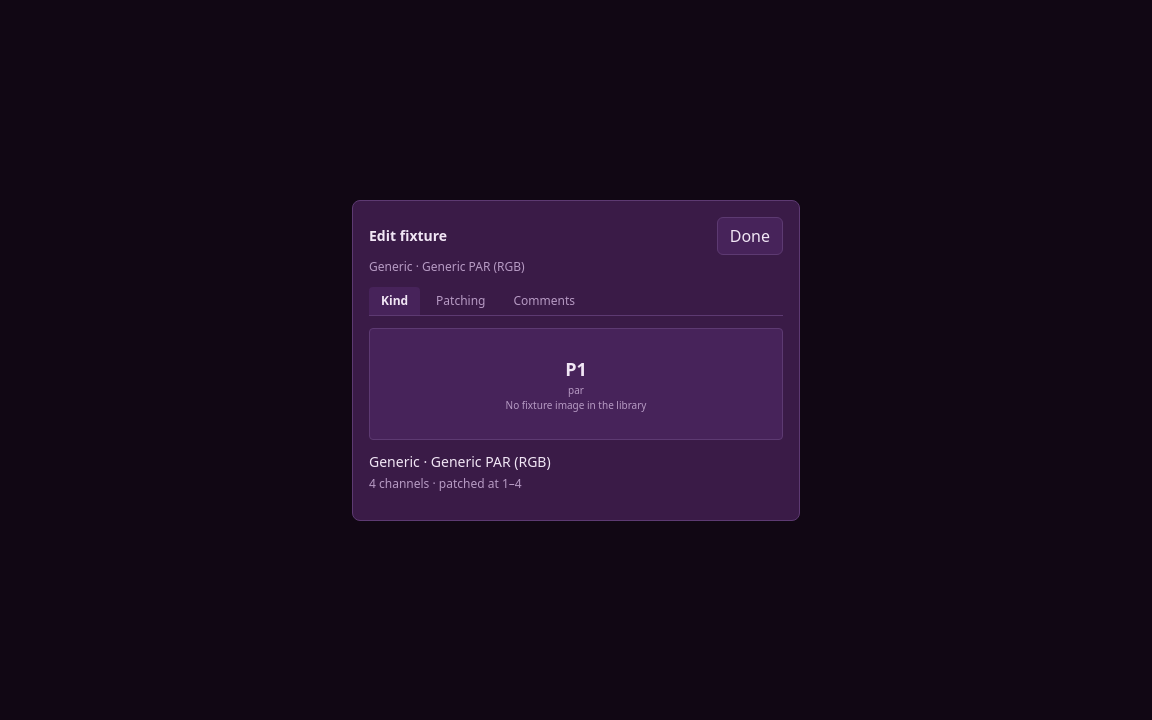
Test: Patch dialog edit mode › asks twice before deleting, then removes the fixture
Later steps or results of the test are not shown.
Click the tab "Comments": click(544, 300) left=502, top=286, right=587, bottom=314
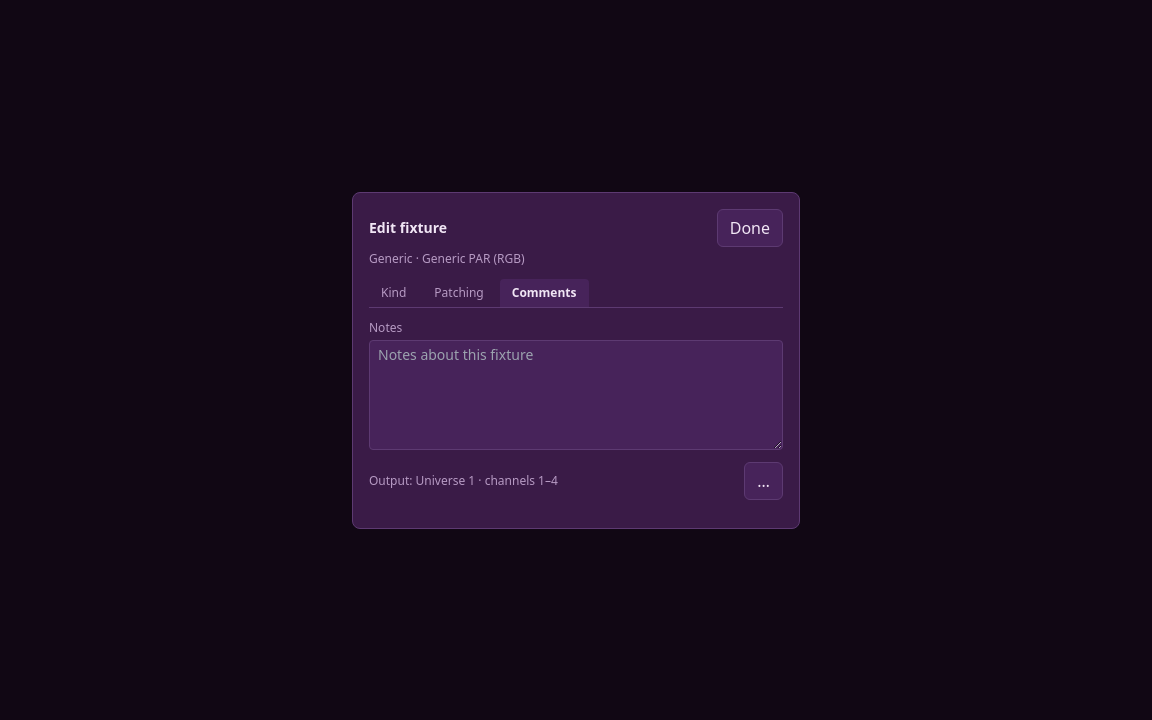
Click the button named "Fixture actions": click(764, 480) left=744, top=462, right=783, bottom=500
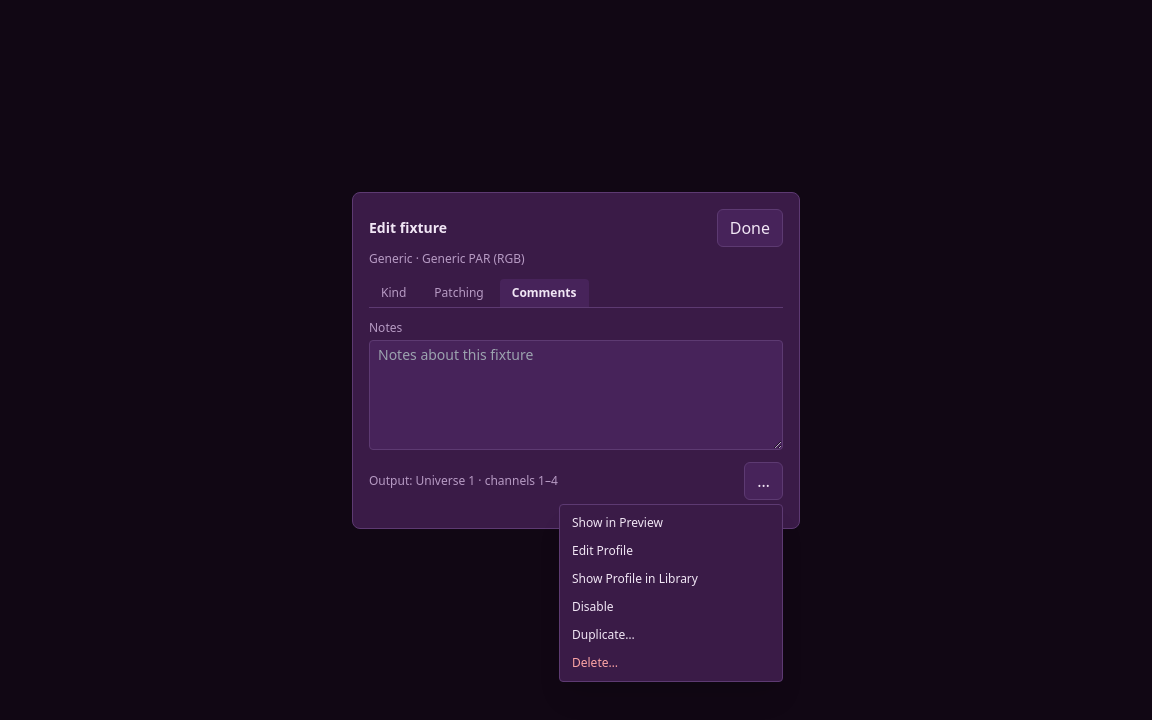
Click the menu item "Delete…": click(671, 662) left=560, top=648, right=782, bottom=676
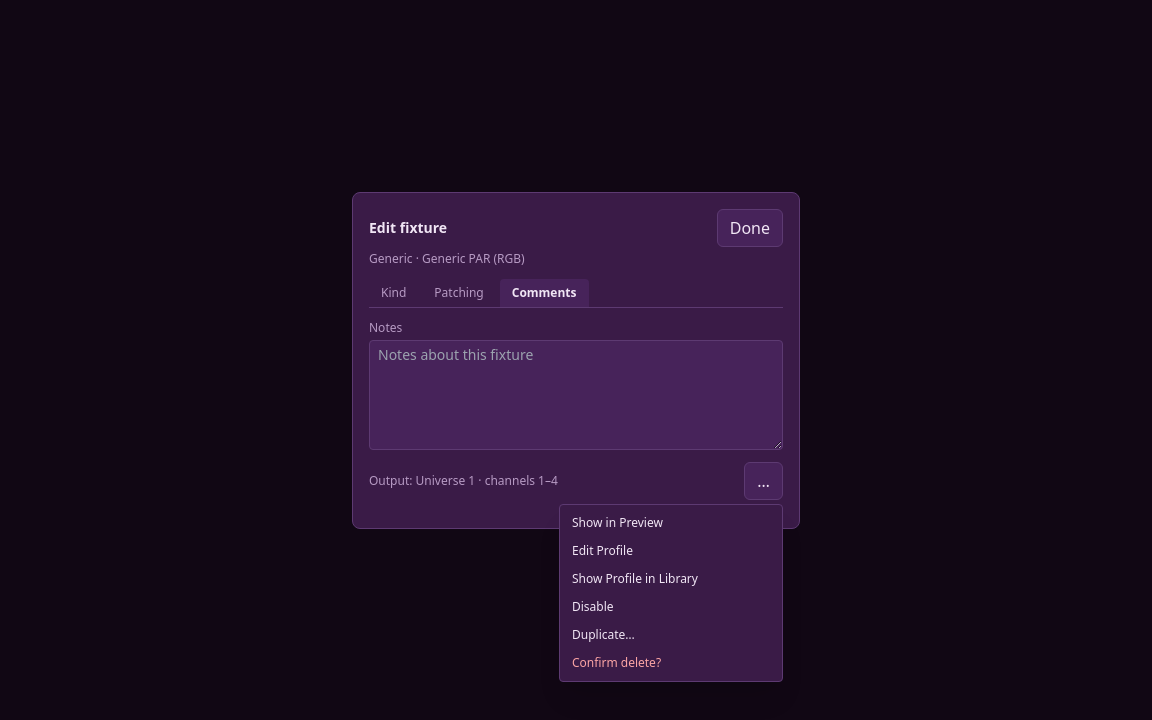
Now the text "Confirm delete?" is shown, box left=560, top=648, right=782, bottom=676
